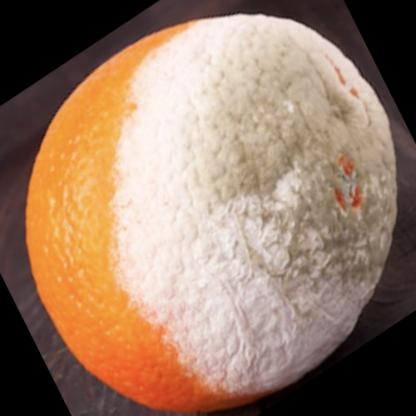rotten: (28, 14, 398, 412)
